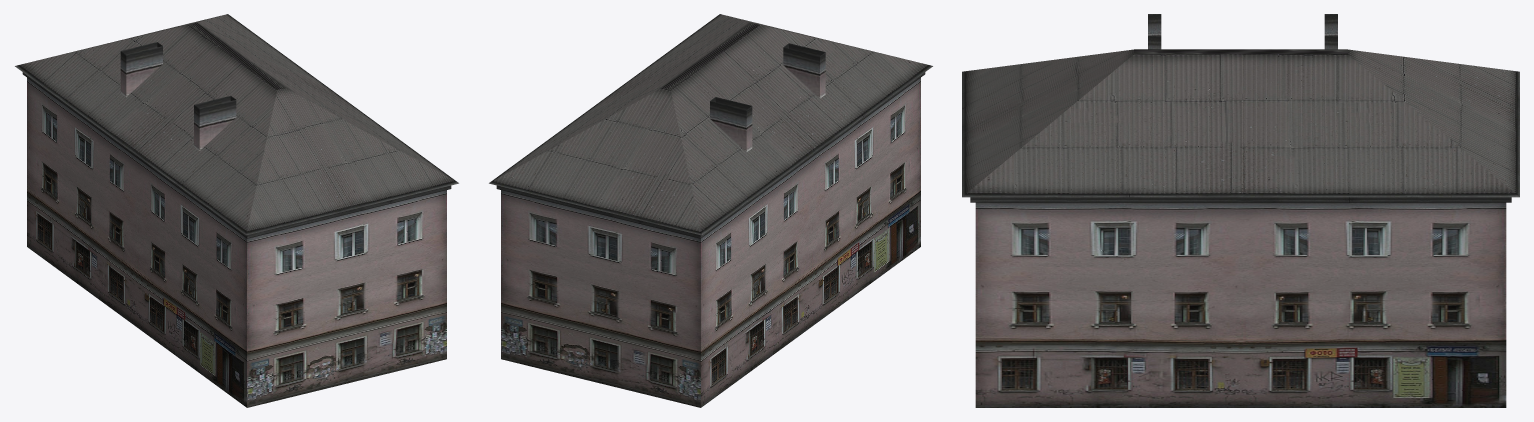
The model's file is sibir_dom_3et3.FBX.
The picture shows the model from 3 angles, left to right: view 1: azimuth 30°, elevation 25°; view 2: azimuth 150°, elevation 25°; view 3: azimuth 270°, elevation 25°; orthographic projection. The views are drawn at different scales.
Parts seen in each view (by area): view 1: sibir_dom_3et3; view 2: sibir_dom_3et3; view 3: sibir_dom_3et3.
Boxes of the visible parts, x1,y1,x2,y2 form: sibir_dom_3et3: (15, 14, 458, 407); sibir_dom_3et3: (489, 14, 932, 407); sibir_dom_3et3: (962, 14, 1519, 407).
Bounding box in the file's own units: 10.27 × 19.29 × 11.34.
